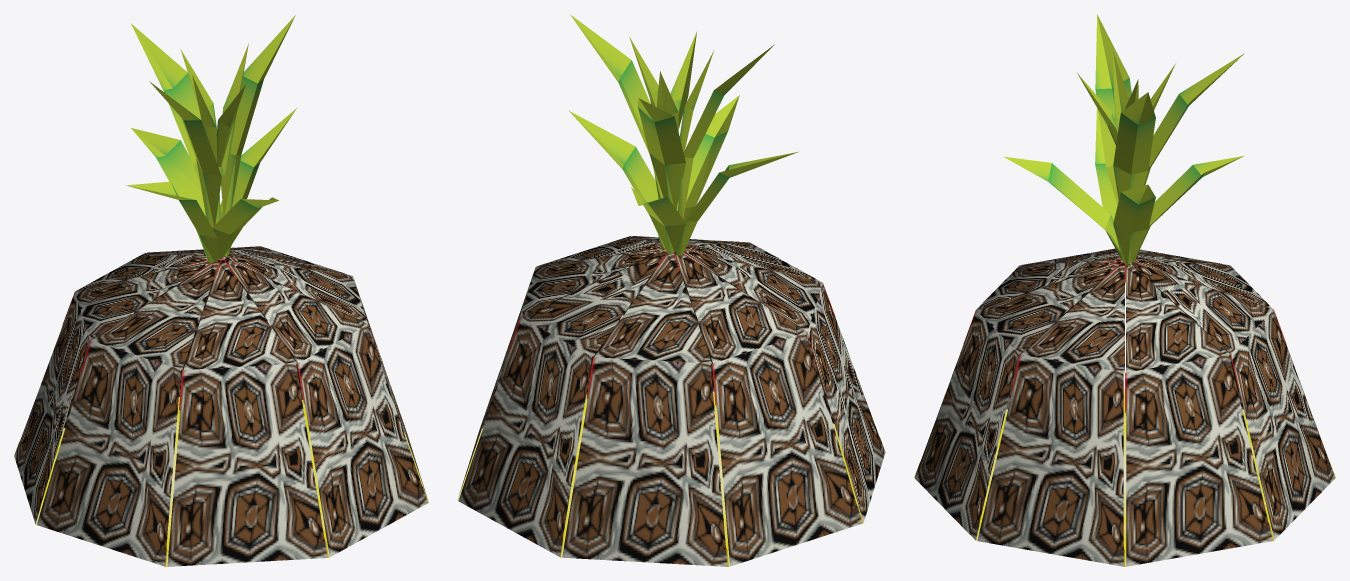
File: Pine1.FBX
3 views of the same model, side by side, from view 1: azimuth 30°, elevation 25°; view 2: azimuth 150°, elevation 25°; view 3: azimuth 270°, elevation 25° (orthographic). The views are drawn at different scales.
Parts seen in each view (by area): view 1: Pine apple001; view 2: Pine apple001; view 3: Pine apple001.
Part boxes in pixels (left/top/right/bottom): Pine apple001: left=14, top=15, right=428, bottom=566; Pine apple001: left=457, top=14, right=885, bottom=566; Pine apple001: left=914, top=14, right=1335, bottom=566.
Size of the model in its own units: 13.41 by 15 by 13.41.
